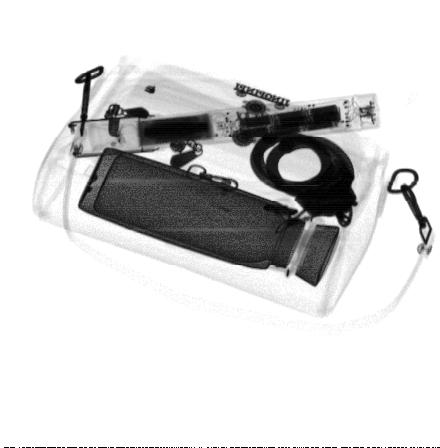Baton: (67, 91, 383, 159)
HandCuffs: (248, 126, 360, 228)
